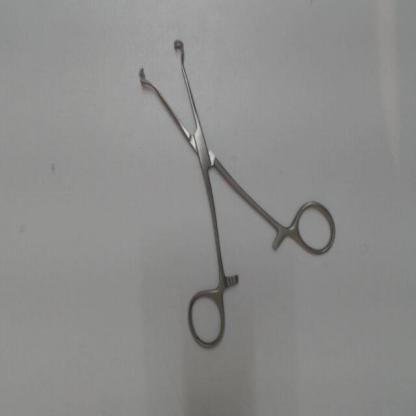Babcock Tissue Forceps: (136, 31, 339, 354)
